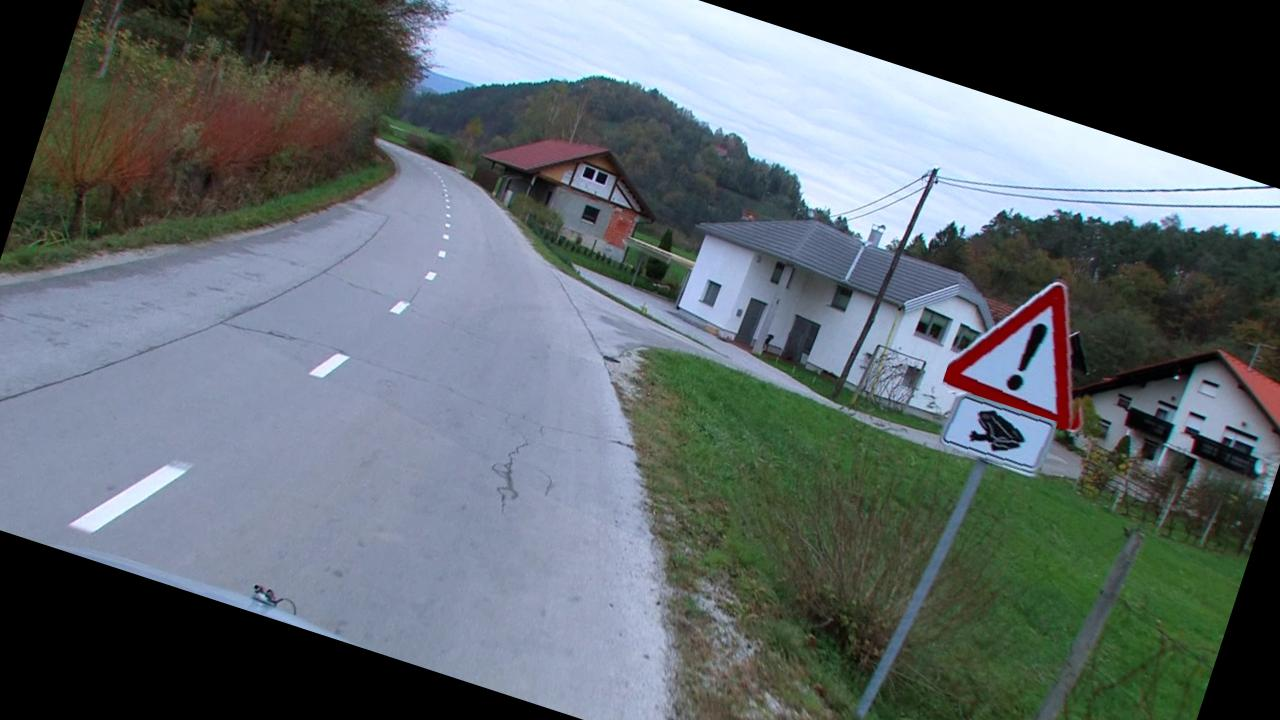Rectangle: (938, 389, 1058, 481)
Triangle: (940, 251, 1124, 435)
